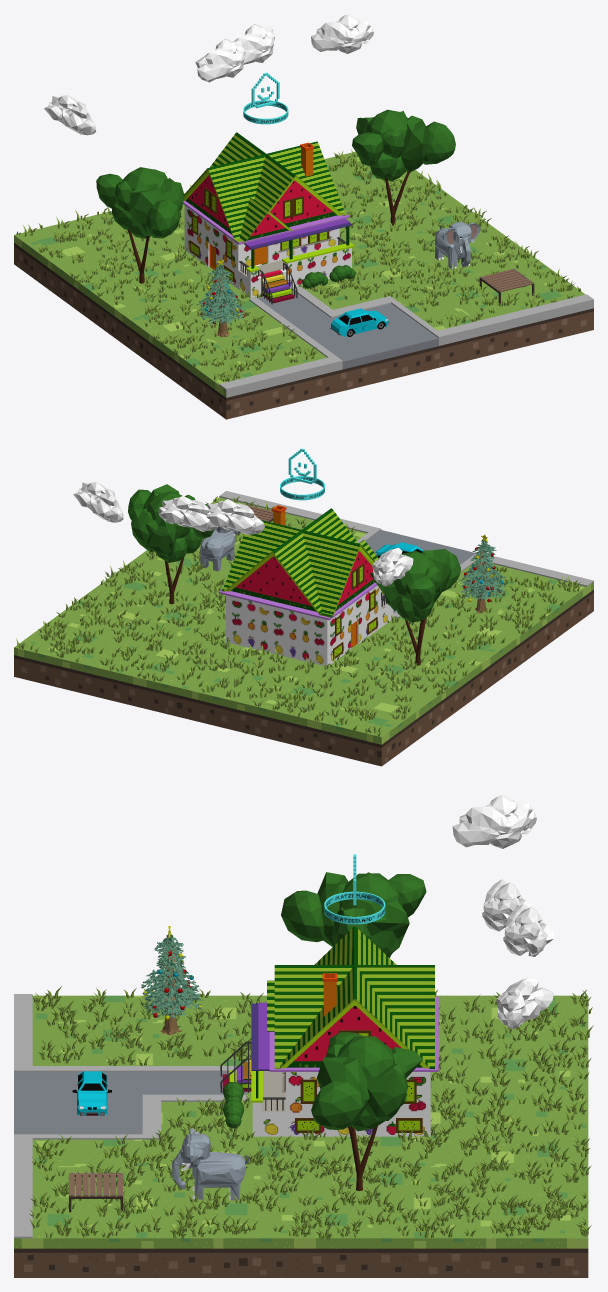
3 views of the same model, one above another, from view 1: azimuth 30°, elevation 25°; view 2: azimuth 150°, elevation 25°; view 3: azimuth 270°, elevation 25° (orthographic). The views are drawn at different scales.
Parts seen in each view (by area): view 1: Cube.006, Cube.1063, Circle.012_Grass_0.192, Cube.007, tree, tree.001, OBJRANDOM_CHRISTMAS_TREE, ANIMAL_ELEFANTE, VEHICLES_CAR, TYPE_PREMIUM, Cube.009; view 2: Cube.006, Cube.1063, Circle.012_Grass_0.192, Cube.007, tree.001, tree, OBJRANDOM_CHRISTMAS_TREE, ANIMAL_ELEFANTE, TYPE_PREMIUM; view 3: Cube.006, Circle.012_Grass_0.192, Cube.1063, tree, Cube.007, tree.001, OBJRANDOM_CHRISTMAS_TREE, ANIMAL_ELEFANTE, Cube.009, VEHICLES_CAR, TYPE_PREMIUM.
Boxes of the visible parts, <box> form: Cube.006: <box>14,151,593,419</box>; Cube.1063: <box>183,132,354,304</box>; Circle.012_Grass_0.192: <box>16,149,580,381</box>; Cube.007: <box>44,14,373,135</box>; tree: <box>352,109,455,225</box>; tree.001: <box>96,167,184,283</box>; OBJRANDOM_CHRISTMAS_TREE: <box>197,259,246,337</box>; ANIMAL_ELEFANTE: <box>434,222,480,269</box>; VEHICLES_CAR: <box>330,308,388,336</box>; TYPE_PREMIUM: <box>243,72,288,124</box>; Cube.009: <box>479,268,534,303</box>; Cube.006: <box>14,491,593,766</box>; Cube.1063: <box>218,505,393,666</box>; Circle.012_Grass_0.192: <box>16,496,580,736</box>; Cube.007: <box>73,481,413,586</box>; tree.001: <box>370,549,460,665</box>; tree: <box>128,484,214,604</box>; OBJRANDOM_CHRISTMAS_TREE: <box>459,534,505,613</box>; ANIMAL_ELEFANTE: <box>200,526,240,571</box>; TYPE_PREMIUM: <box>280,448,324,500</box>; Cube.006: <box>14,994,588,1277</box>; Circle.012_Grass_0.192: <box>29,986,593,1239</box>; Cube.1063: <box>220,926,438,1136</box>; tree: <box>311,1032,422,1190</box>; Cube.007: <box>452,795,553,1029</box>; tree.001: <box>281,872,426,957</box>; OBJRANDOM_CHRISTMAS_TREE: <box>141,926,203,1036</box>; ANIMAL_ELEFANTE: <box>172,1128,249,1200</box>; Cube.009: <box>69,1172,122,1212</box>; VEHICLES_CAR: <box>72,1071,111,1115</box>; TYPE_PREMIUM: <box>324,854,385,924</box>.
Bounding box in the file's own units: 4071 × 2300 × 4040.
Materials: 40 (6 with a texture image).
